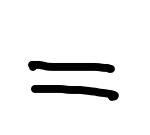eqv: (28, 61, 119, 101)
